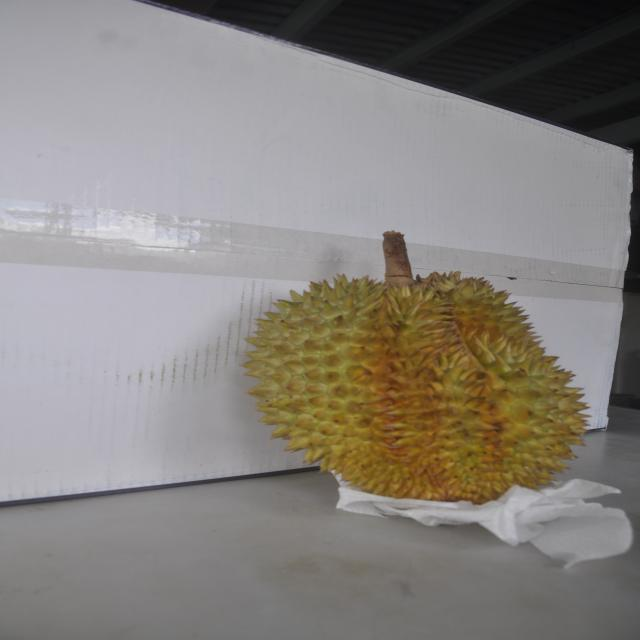mature: (236, 247, 594, 501)
